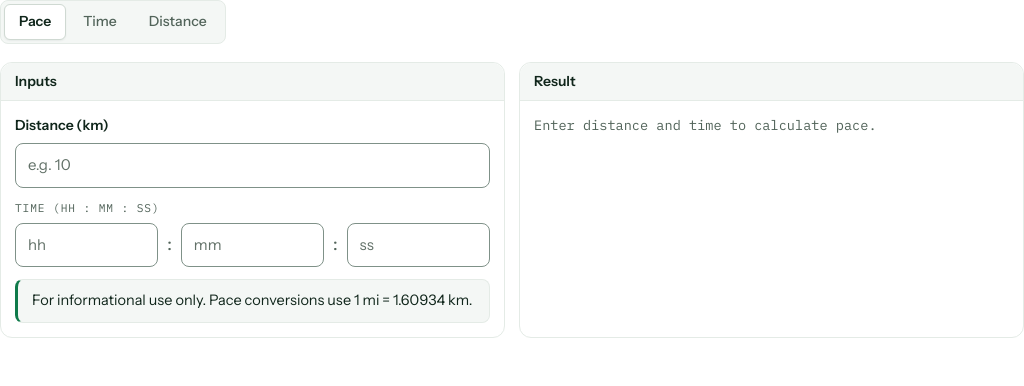
Test: PaceCalculator › Time mode (distance + pace → total time) › 10 km at 5:00 /km → 50:00 total
Click the tab "Time" at (100, 22), box [68,4,132,40]
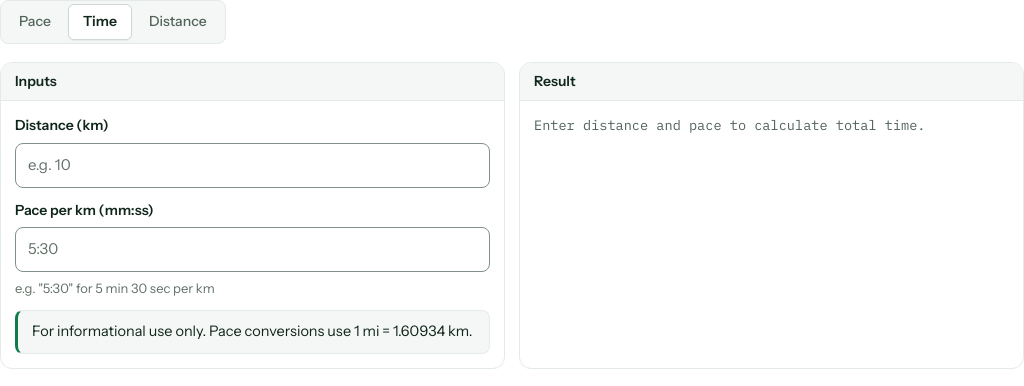
Type "10" into the number field with placeholder "e.g. 10" at (252, 165), box [15,143,490,188]
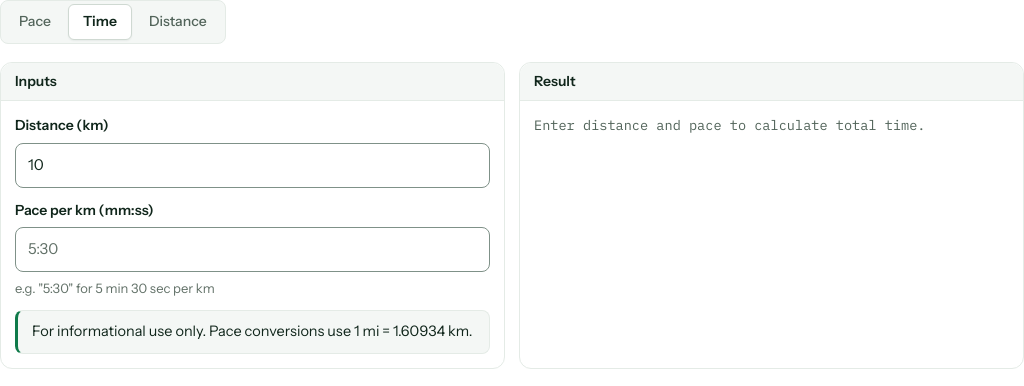
Type "5:00" into the field with placeholder "5:30" at (252, 250), box [15,227,490,272]
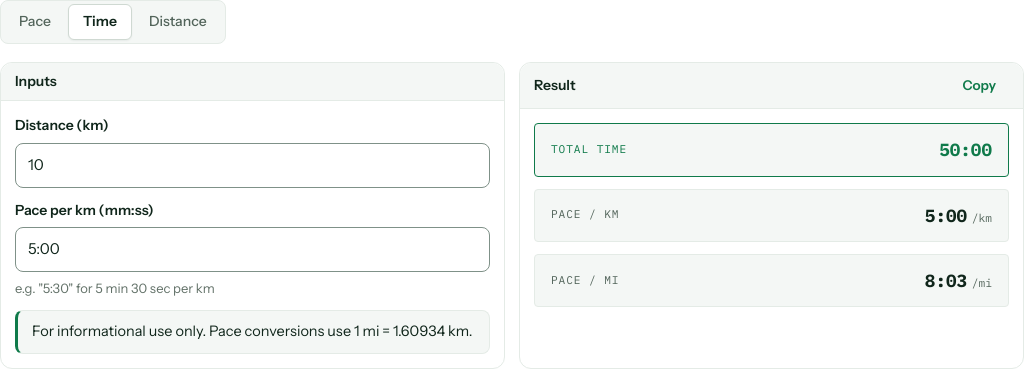
Now the text "50:00" is shown, box [939,136,992,164]
